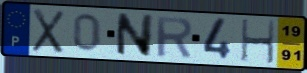0: (71, 13, 104, 54)
4: (201, 16, 237, 63)
H: (240, 18, 277, 66)
N: (114, 12, 155, 59)
R: (154, 15, 195, 59)
X: (30, 7, 67, 55)
